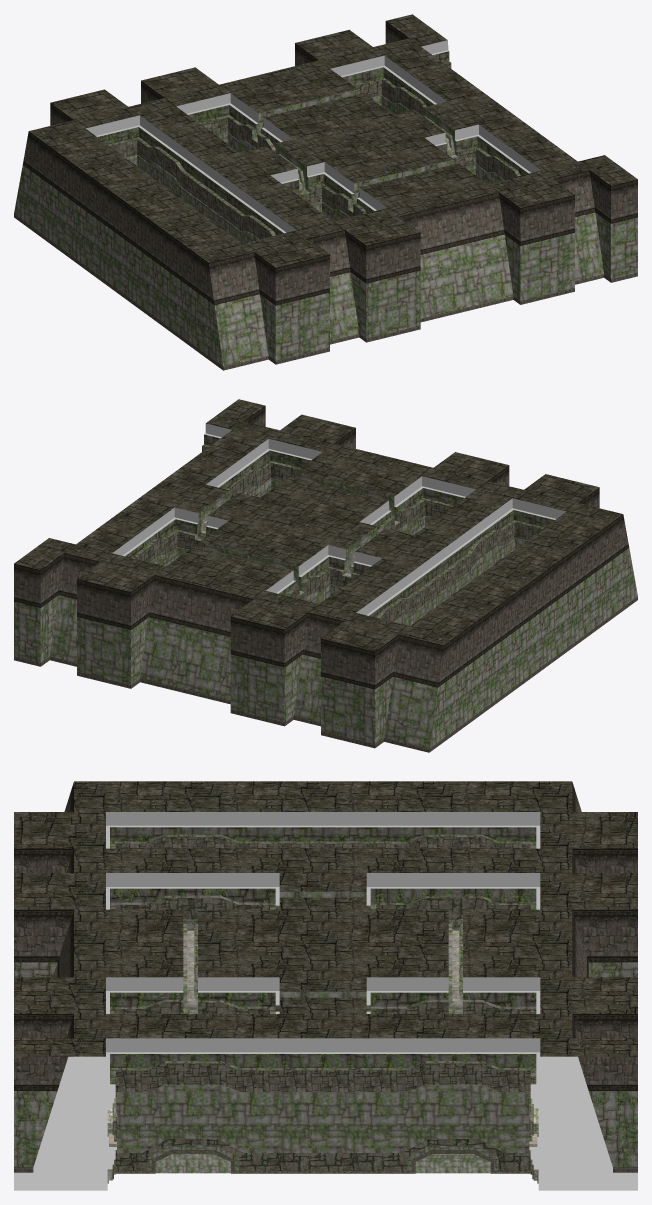
Rendered from thm_yavn_palace_woolamander_r7_altar_wing_mesh.fbx.
3 renders of one model, top to bottom at view 1: azimuth 30°, elevation 25°; view 2: azimuth 150°, elevation 25°; view 3: azimuth 270°, elevation 25°, orthographic. The views are drawn at different scales.
Visible parts, largest first — view 1: mesh_node; view 2: mesh_node; view 3: mesh_node.
Boxes of the visible parts, bbox=[...] form: mesh_node: bbox=[14, 14, 637, 370]; mesh_node: bbox=[14, 399, 637, 752]; mesh_node: bbox=[14, 781, 637, 1190].
Bounding box in the file's own units: 45.05 × 11.27 × 43.08.
